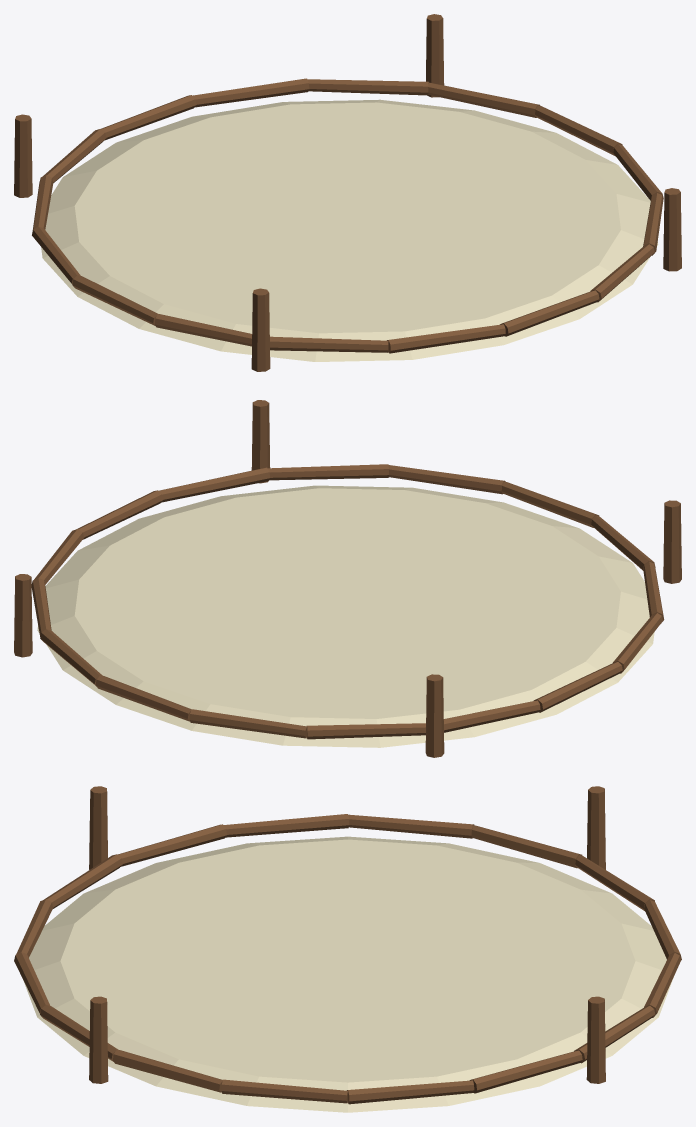
File: CC_WrestlingRing.fbx
3 renders of one model, top to bottom at view 1: azimuth 30°, elevation 25°; view 2: azimuth 150°, elevation 25°; view 3: azimuth 270°, elevation 25°, orthographic. The views are drawn at different scales.
Visible parts, largest first — view 1: Sand ring, Ring rope.002, Ring rope.010, Ring rope.011, Ring rope.003, Ring rope.001, Corner stake.002, Corner stake.003, Corner stake.001, Ring rope.012, Ring rope.009, Ring rope.004 (+9 smaller); view 2: Sand ring, Ring rope.013, Ring rope.005, Ring rope.004, Ring rope.012, Corner stake.001, Ring rope.014, Corner stake.002, Corner stake, Ring rope.003, Ring rope.011, Ring rope.006 (+9 smaller); view 3: Sand ring, Ring rope.015, Ring rope, Ring rope.008, Ring rope.007, Ring rope.014, Ring rope.001, Corner stake.003, Corner stake, Ring rope.006, Ring rope.009, Corner stake.002 (+9 smaller).
Part boxes in pixels (bbox=[...]): Sand ring: bbox=[41, 99, 658, 361]; Ring rope.002: bbox=[307, 79, 428, 95]; Ring rope.010: bbox=[270, 336, 388, 352]; Ring rope.011: bbox=[387, 324, 505, 353]; Ring rope.003: bbox=[193, 78, 309, 107]; Ring rope.001: bbox=[428, 82, 540, 117]; Corner stake.002: bbox=[251, 288, 270, 371]; Corner stake.003: bbox=[663, 188, 681, 271]; Corner stake.001: bbox=[14, 114, 32, 197]; Ring rope.012: bbox=[500, 290, 599, 336]; Ring rope.009: bbox=[154, 314, 252, 346]; Ring rope.004: bbox=[101, 95, 196, 140]; Sand ring: bbox=[37, 485, 654, 747]; Ring rope.013: bbox=[267, 464, 388, 480]; Ring rope.005: bbox=[307, 723, 425, 739]; Ring rope.004: bbox=[189, 709, 306, 738]; Ring rope.012: bbox=[388, 465, 505, 494]; Corner stake.001: bbox=[425, 674, 444, 757]; Ring rope.014: bbox=[158, 467, 269, 502]; Corner stake.002: bbox=[663, 500, 681, 583]; Corner stake: bbox=[14, 574, 32, 657]; Ring rope.003: bbox=[95, 675, 191, 721]; Ring rope.011: bbox=[501, 481, 599, 527]; Ring rope.006: bbox=[443, 700, 540, 732]; Sand ring: bbox=[23, 836, 673, 1112]; Ring rope.015: bbox=[221, 1079, 347, 1103]; Ring rope: bbox=[347, 1080, 474, 1104]; Ring rope.008: bbox=[223, 814, 349, 837]; Ring rope.007: bbox=[348, 814, 474, 838]; Ring rope.014: bbox=[113, 1049, 222, 1092]; Ring rope.001: bbox=[469, 1050, 582, 1093]; Corner stake.003: bbox=[89, 996, 108, 1083]; Corner stake: bbox=[586, 996, 605, 1083]; Ring rope.006: bbox=[471, 825, 582, 868]; Ring rope.009: bbox=[117, 824, 226, 866]; Corner stake.002: bbox=[89, 786, 107, 869].
Bounding box in the file's own units: 5.31 × 0.7 × 5.31.
